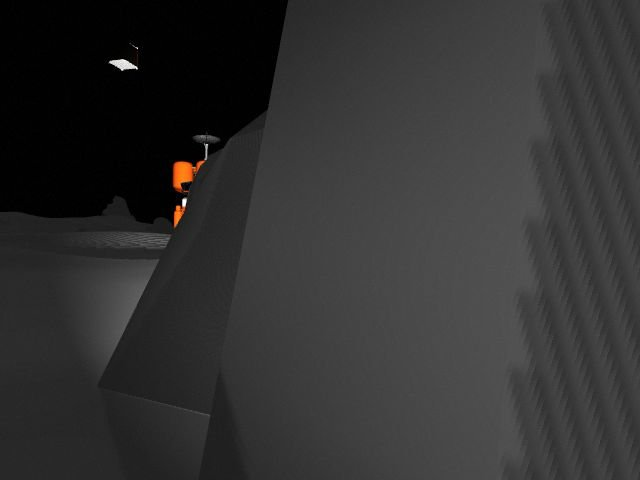cubesat: (103, 37, 147, 77)
